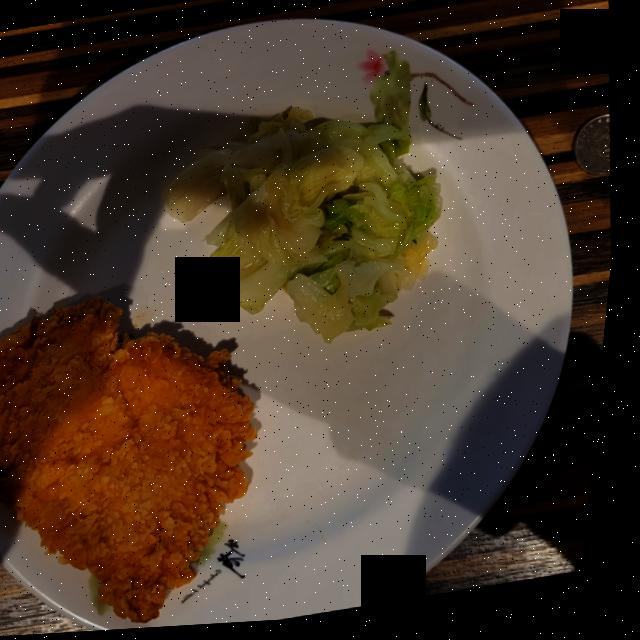cabbage: (167, 56, 445, 346)
coin: (576, 121, 614, 183)
fried chicken cutlet: (0, 298, 264, 625)
